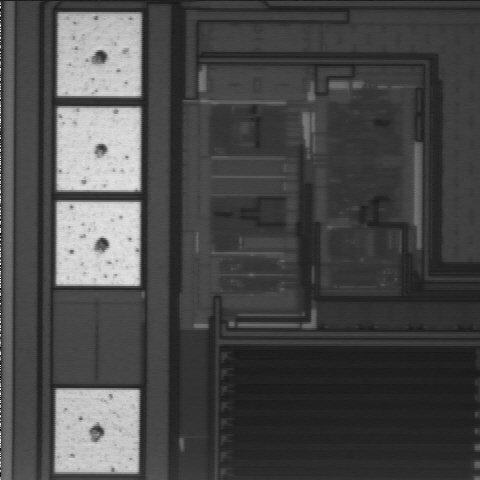pad: (56, 202, 140, 286), (57, 108, 140, 191), (55, 390, 139, 472), (58, 14, 140, 96)
